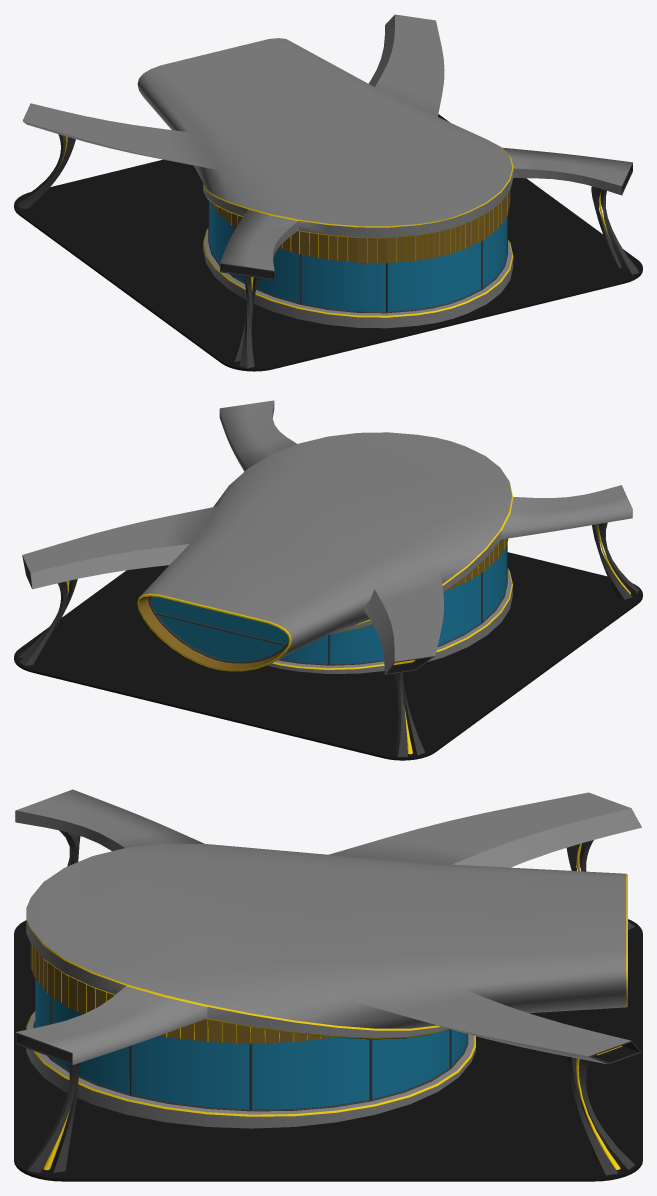
Rendered from SM_MK13_Roof_001.fbx.
3 renders of one model, top to bottom at view 1: azimuth 30°, elevation 25°; view 2: azimuth 150°, elevation 25°; view 3: azimuth 270°, elevation 25°, orthographic. The views are drawn at different scales.
Parts seen in each view (by area): view 1: SM_MK13_Roof_001; view 2: SM_MK13_Roof_001; view 3: SM_MK13_Roof_001.
Part boxes in pixels (<box>): SM_MK13_Roof_001: <box>14,14,642,371</box>; SM_MK13_Roof_001: <box>14,400,642,760</box>; SM_MK13_Roof_001: <box>14,789,642,1181</box>.
Size of the model in its own units: 2100 by 500 by 2100.
